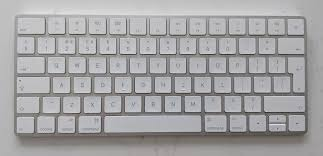keyboard: (4, 8, 311, 138)
